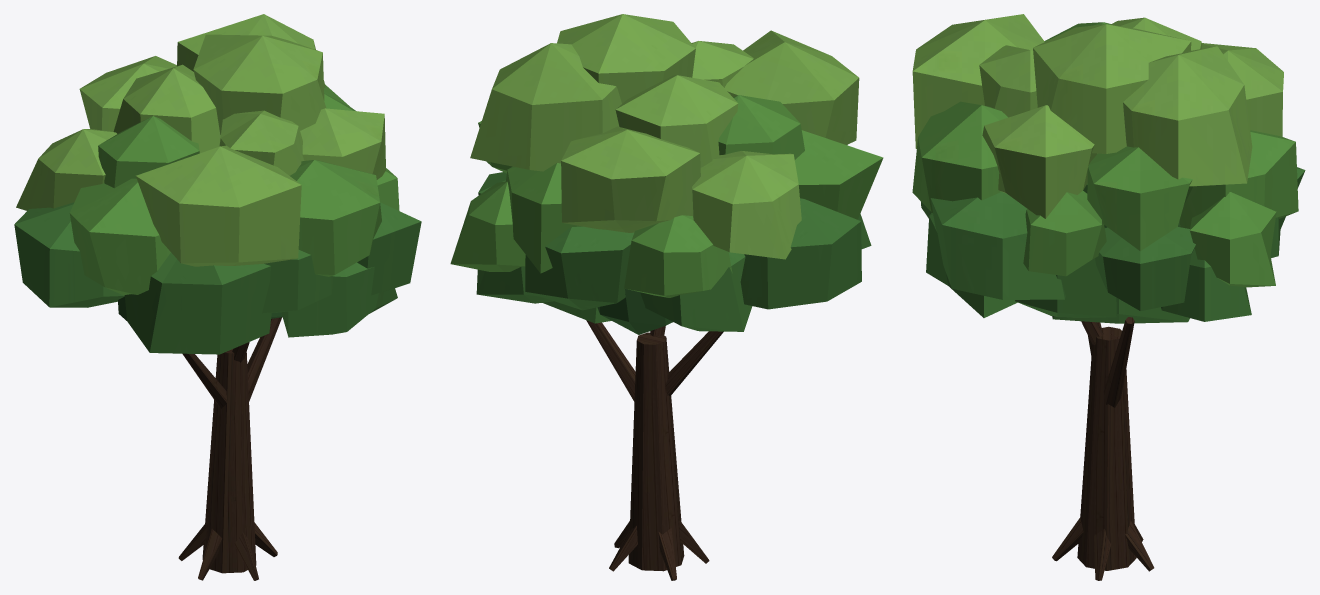
File: tree_broadleaf_01.glb
The picture shows the model from 3 angles, left to right: view 1: azimuth 30°, elevation 25°; view 2: azimuth 150°, elevation 25°; view 3: azimuth 270°, elevation 25°; orthographic projection. The views are drawn at different scales.
Parts seen in each view (by area): view 1: tree_broadleaf_01; view 2: tree_broadleaf_01; view 3: tree_broadleaf_01.
Boxes of the visible parts, <box> form: tree_broadleaf_01: <box>14,14,421,580</box>; tree_broadleaf_01: <box>450,14,883,580</box>; tree_broadleaf_01: <box>912,14,1305,580</box>.
Size of the model in its own units: 4.62 by 6.59 by 4.25.
Materials: 5 (5 with a texture image).
